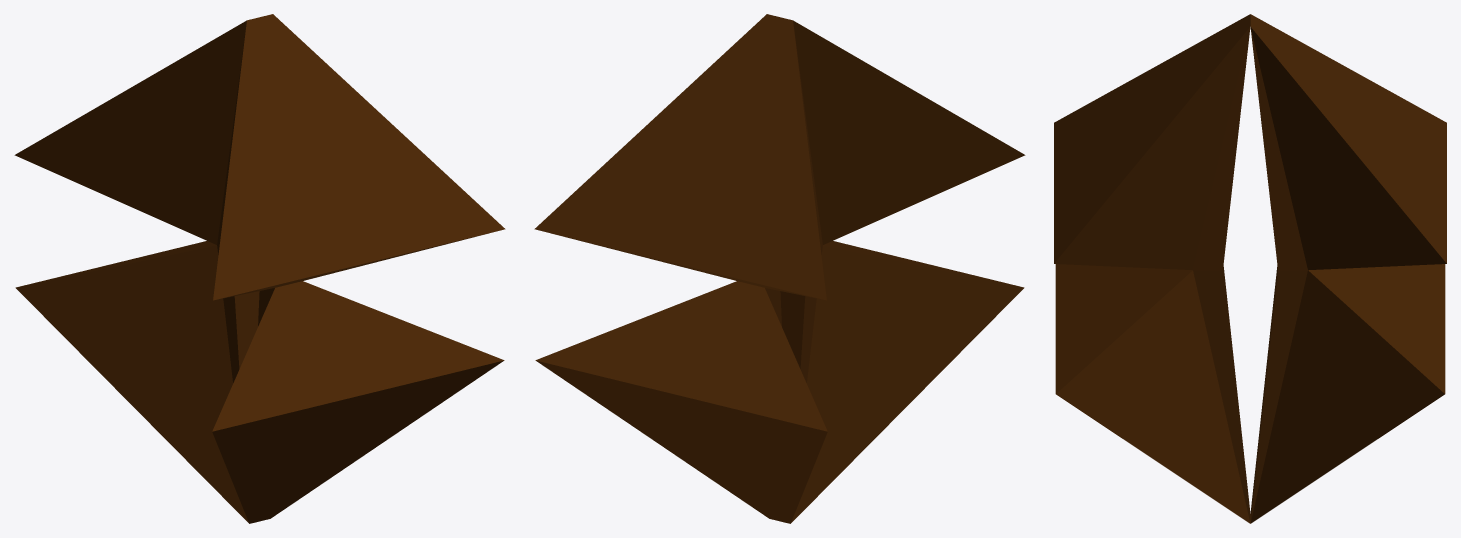
The model's file is MineralParticleMesh.fbx.
3 renders of one model, left to right at view 1: azimuth 30°, elevation 25°; view 2: azimuth 150°, elevation 25°; view 3: azimuth 270°, elevation 25°, orthographic.
Parts seen in each view (by area): view 1: Cube; view 2: Cube; view 3: Cube.
Part boxes in pixels (box(x1,y1,x2,y2)): Cube: box(14, 14, 505, 523); Cube: box(534, 14, 1025, 523); Cube: box(1054, 14, 1446, 523).
Size of the model in its own units: 121 by 200 by 143.
